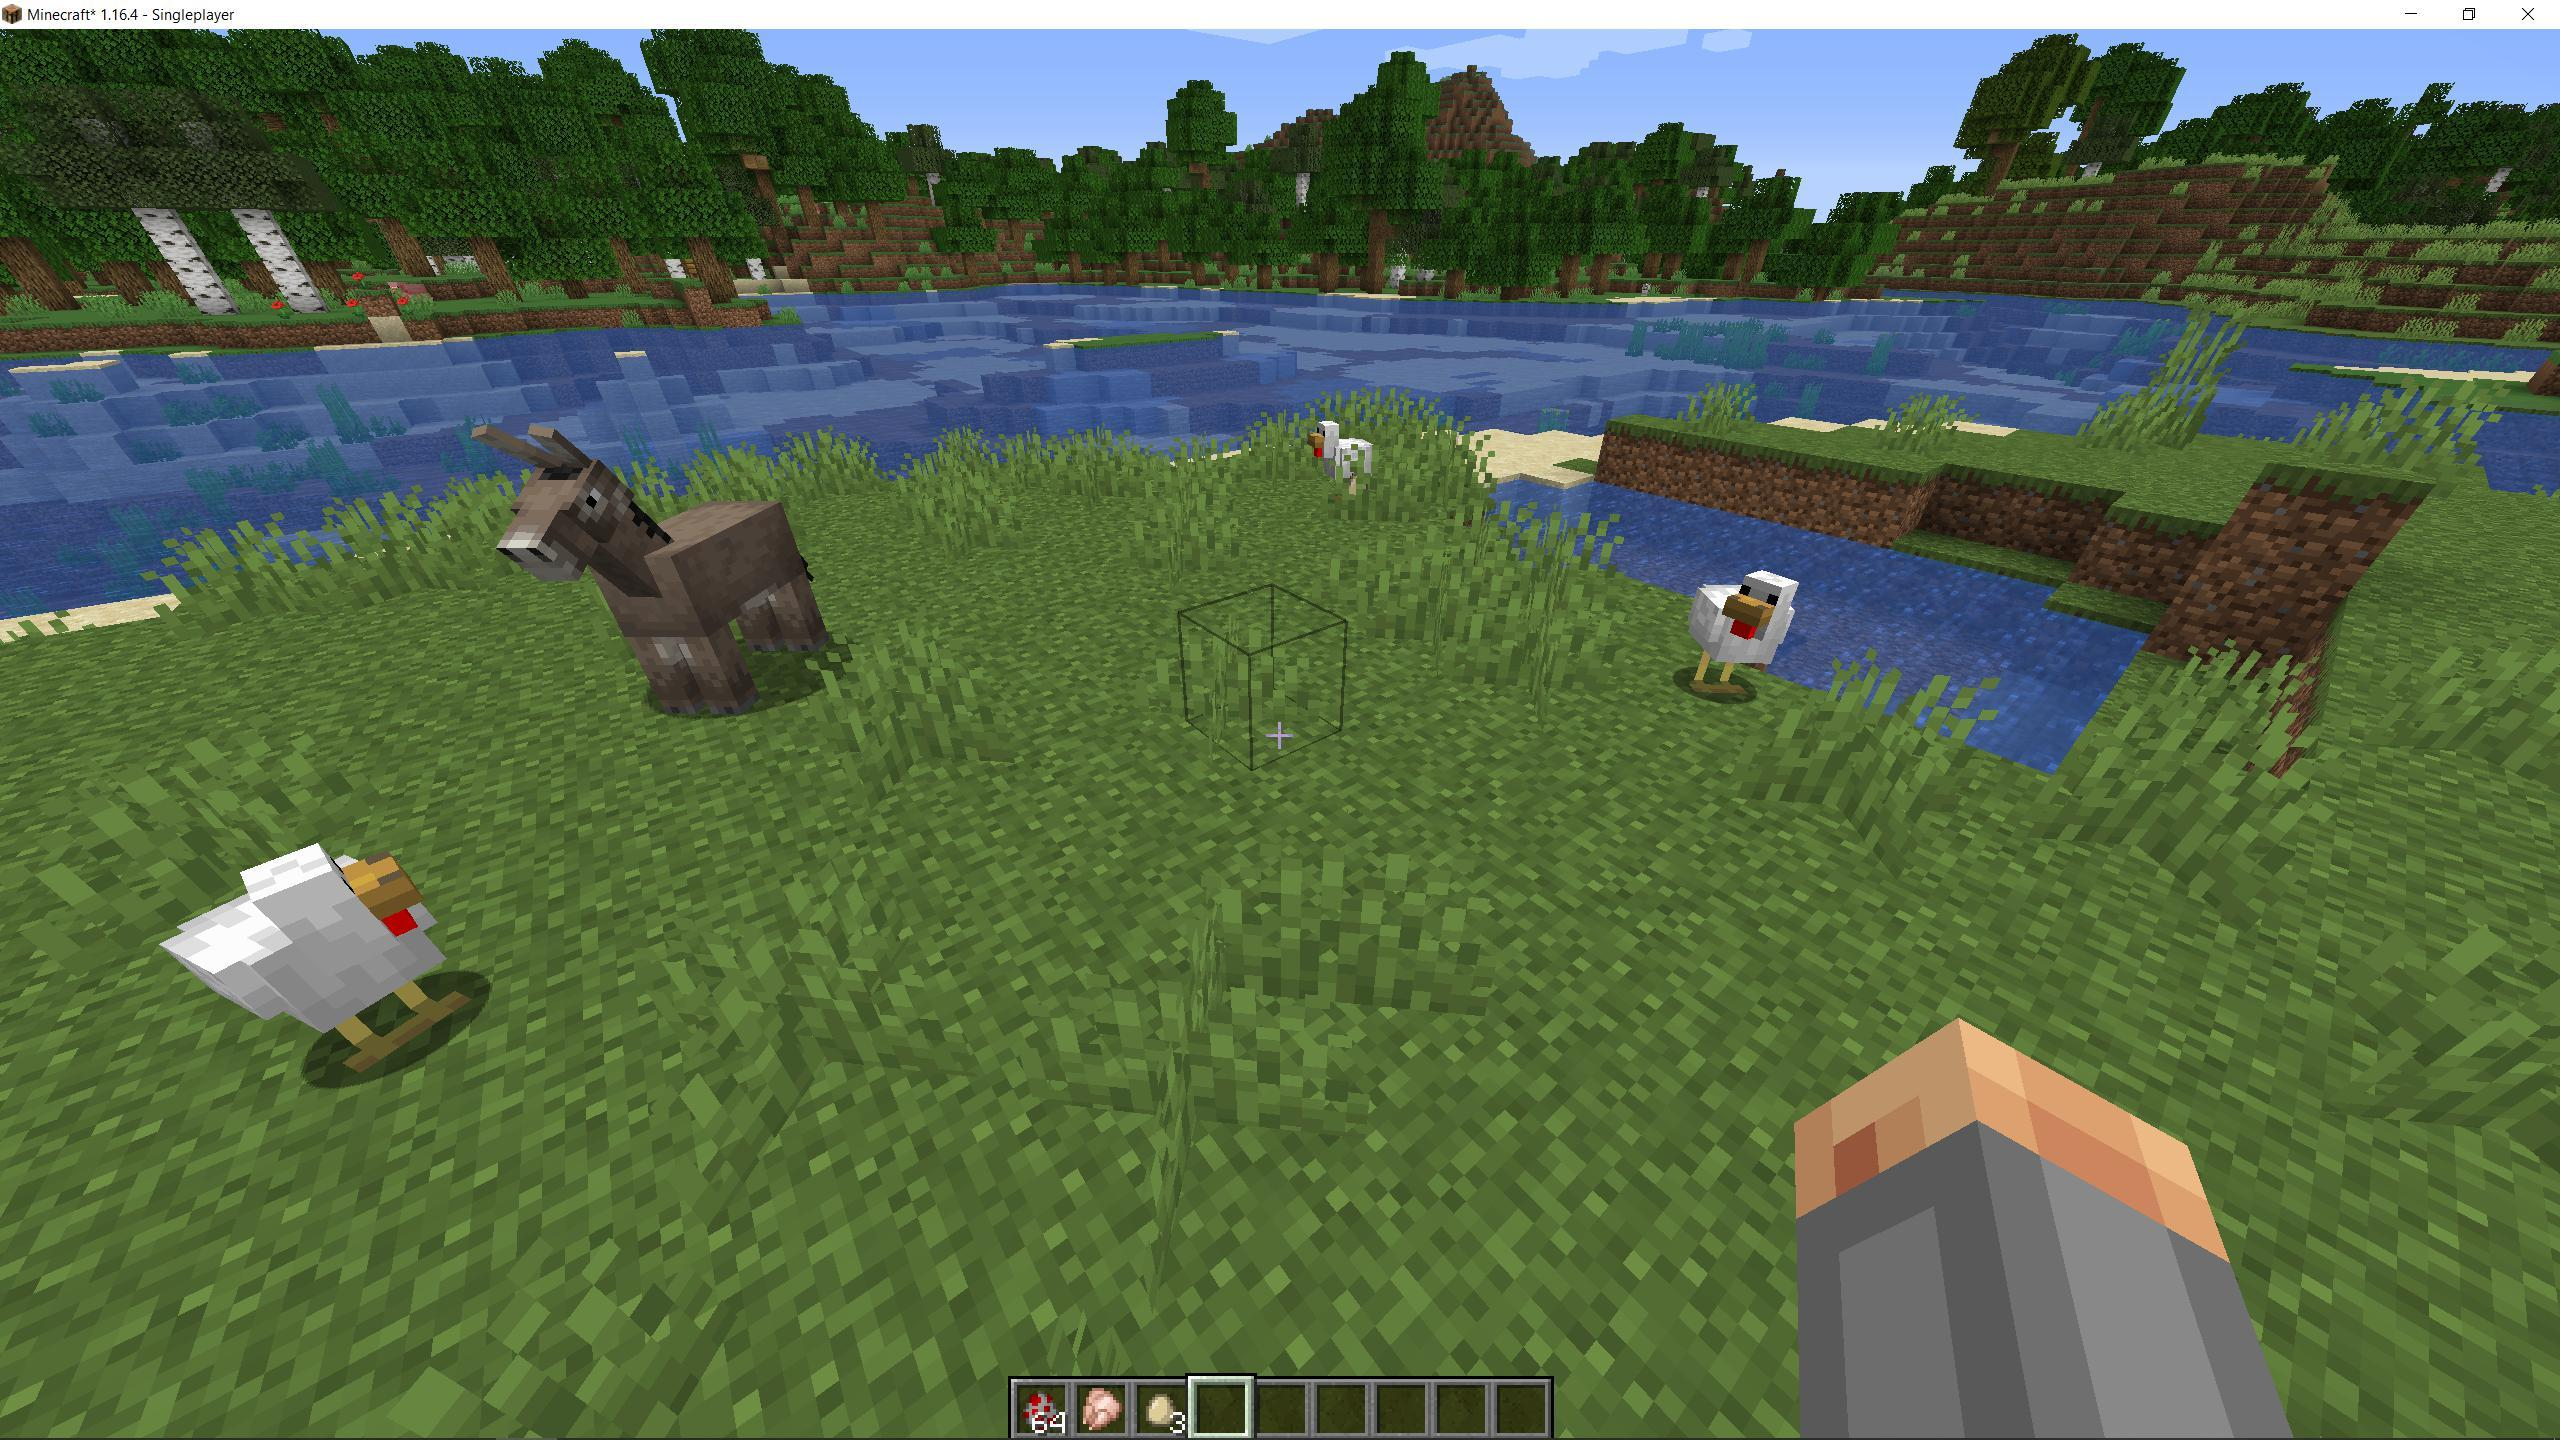chicken: (156, 846, 478, 1090), (1681, 564, 1802, 705), (1303, 408, 1382, 505)
